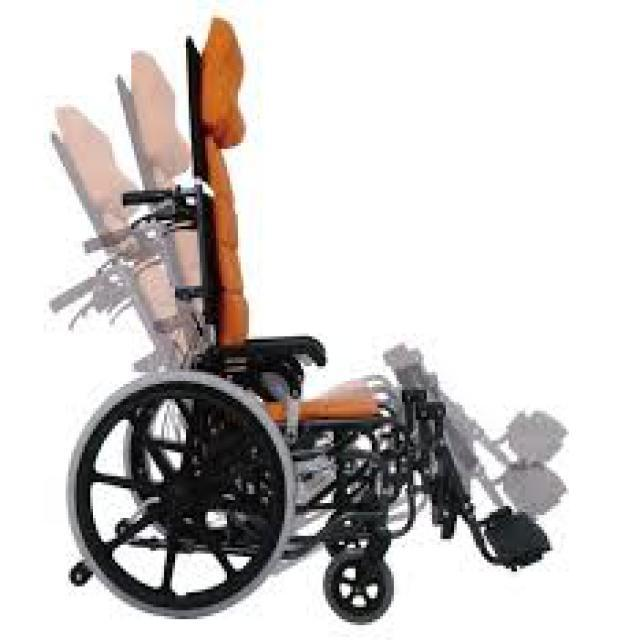wheelchair: (54, 12, 542, 625)
